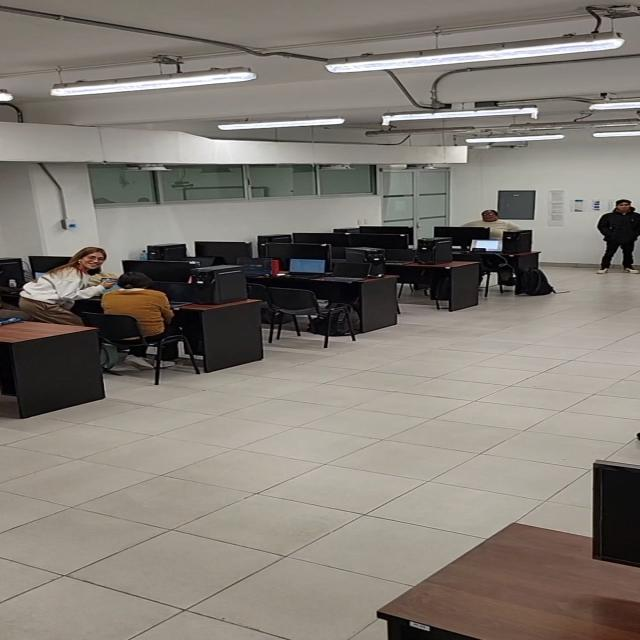Persona: (595, 197, 640, 275)
